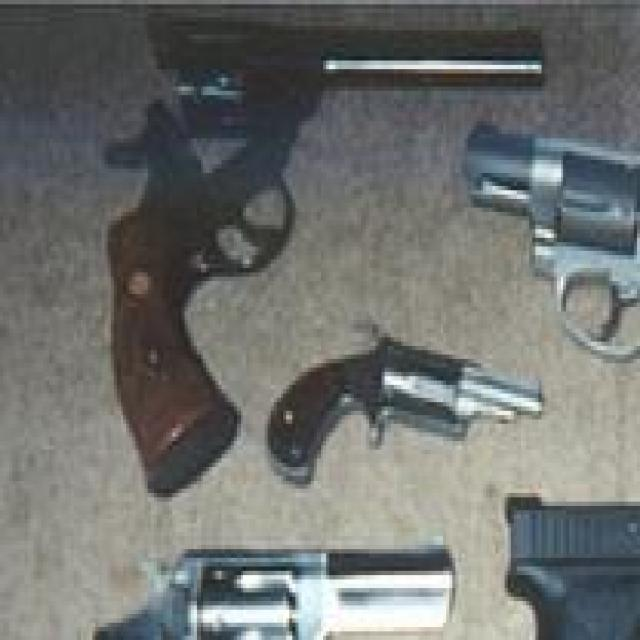Guns: (92, 0, 551, 523), (449, 95, 640, 471), (256, 300, 554, 517), (12, 510, 456, 640), (486, 480, 640, 640)
